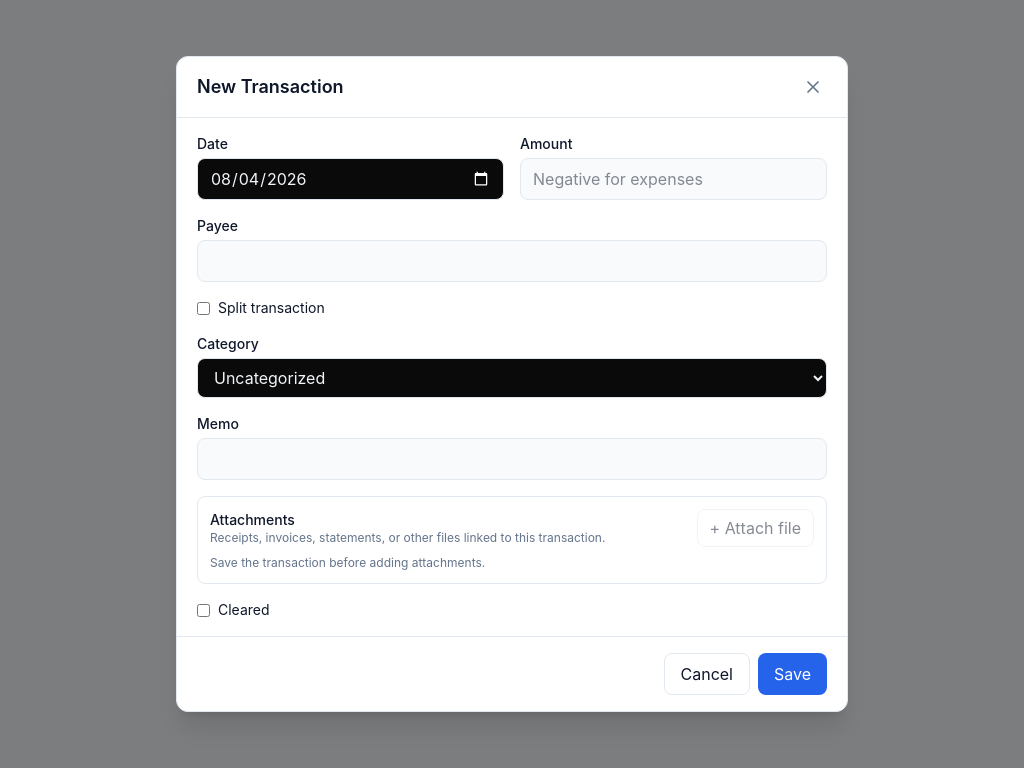
Scenario: TransactionForm › shows validation error when amount is zero
Type "0" into the number field labelled "Amount". click: (674, 179)
box: [520,158,827,200]
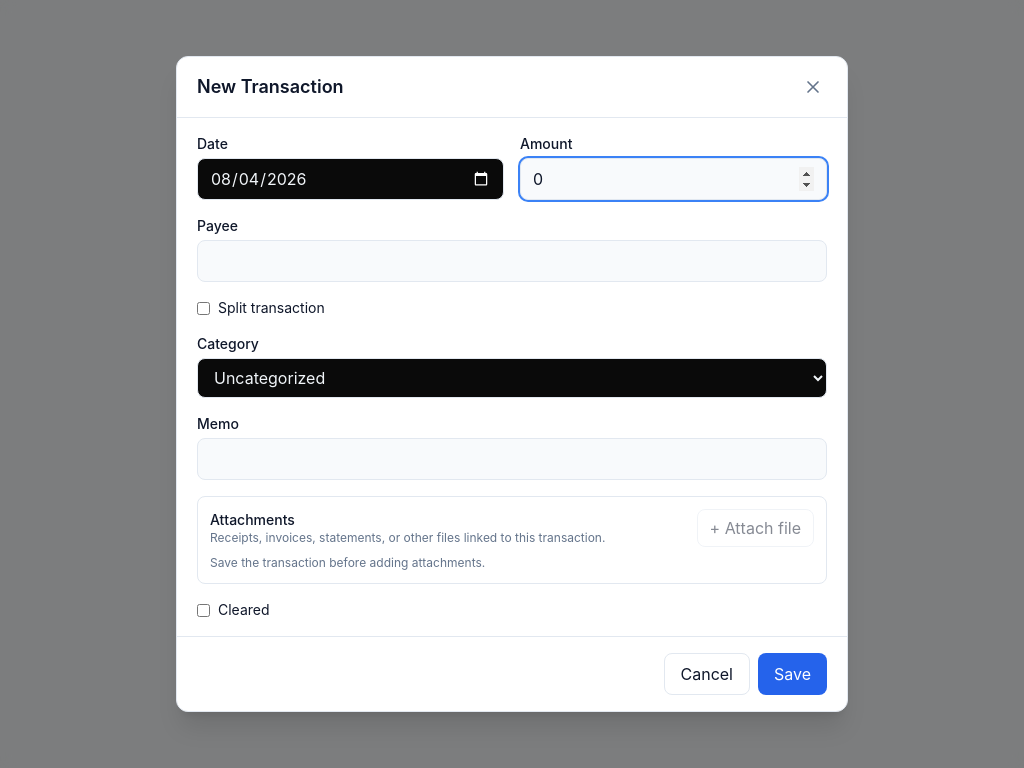
Click the button "Save". click: (792, 674)
box: [758,653,827,695]
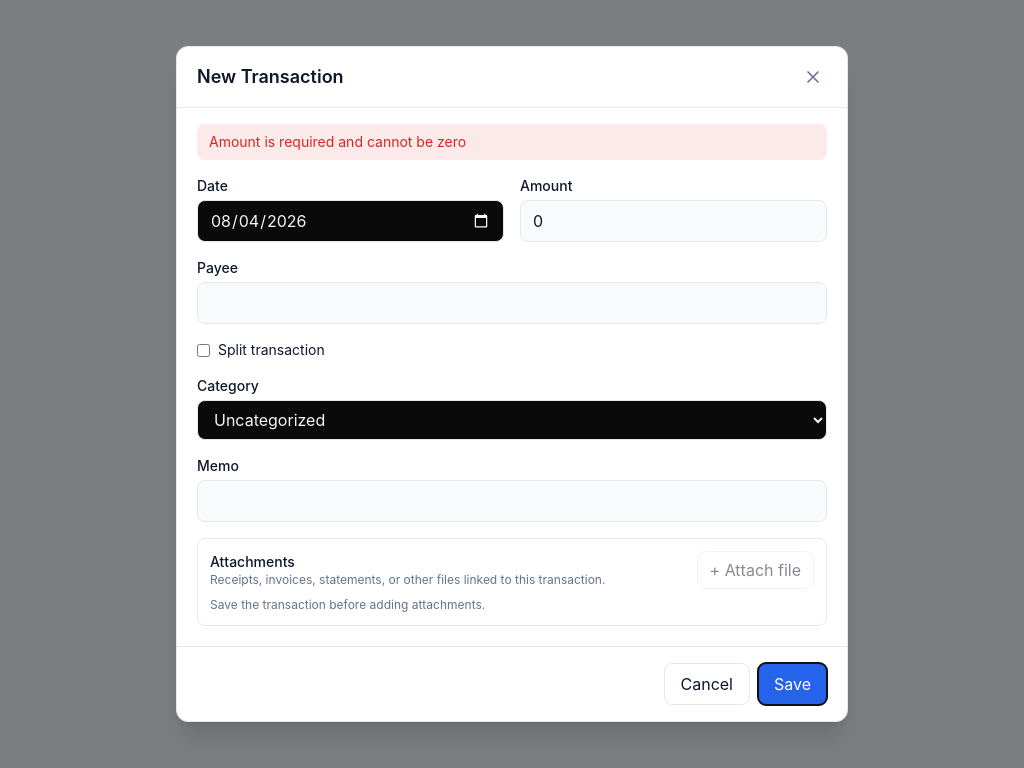
Check: the text "Amount is required and cannot be zero" is shown, box [197,124,827,160]
